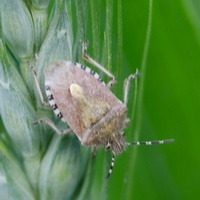insect: (45, 61, 137, 153)
